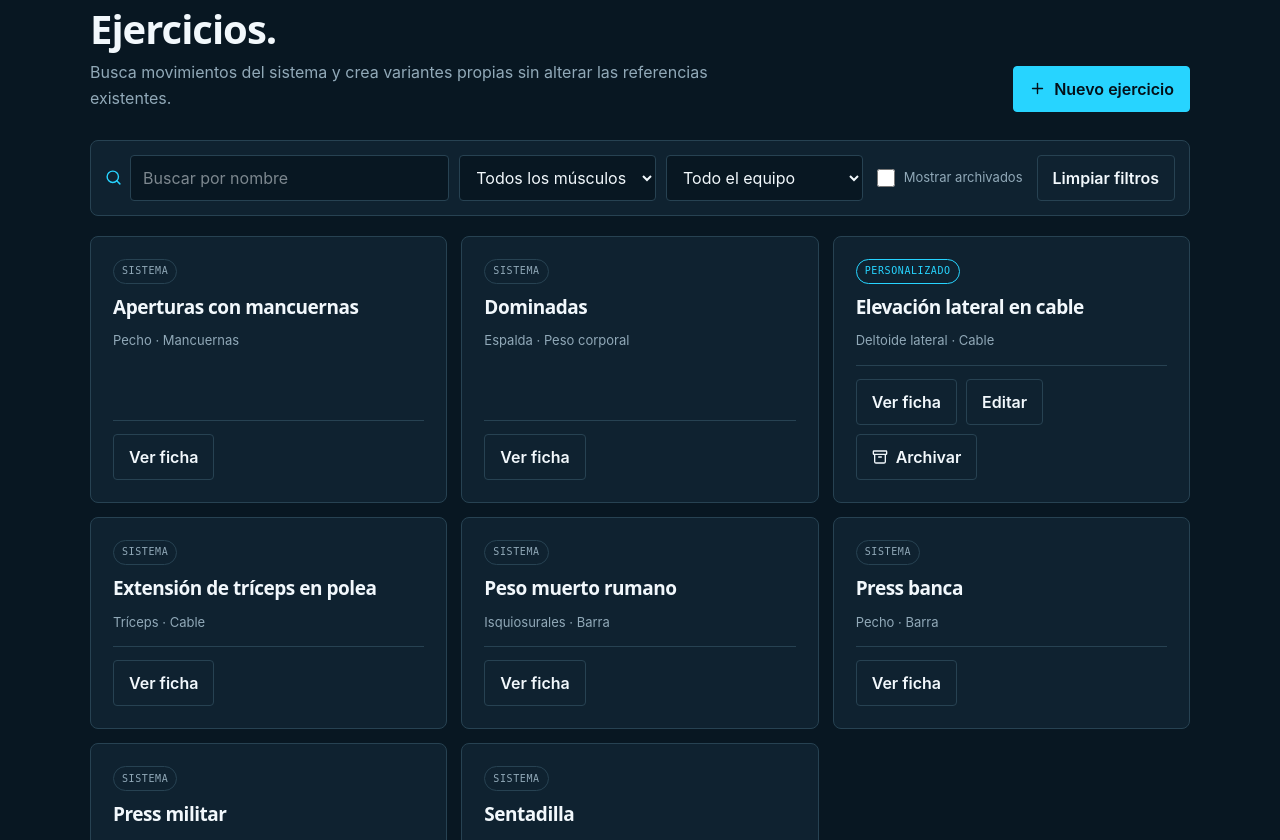
Test: gestión de ejercicios › busca, limpia filtros y crea un ejercicio disponible de inmediato
Check: the heading "Press banca" is shown, box [856,575,963,601]
Step 1. Type "  PRESS BANCA " into the field named "Buscar ejercicios" → (290, 178), box [130,155,449,201]
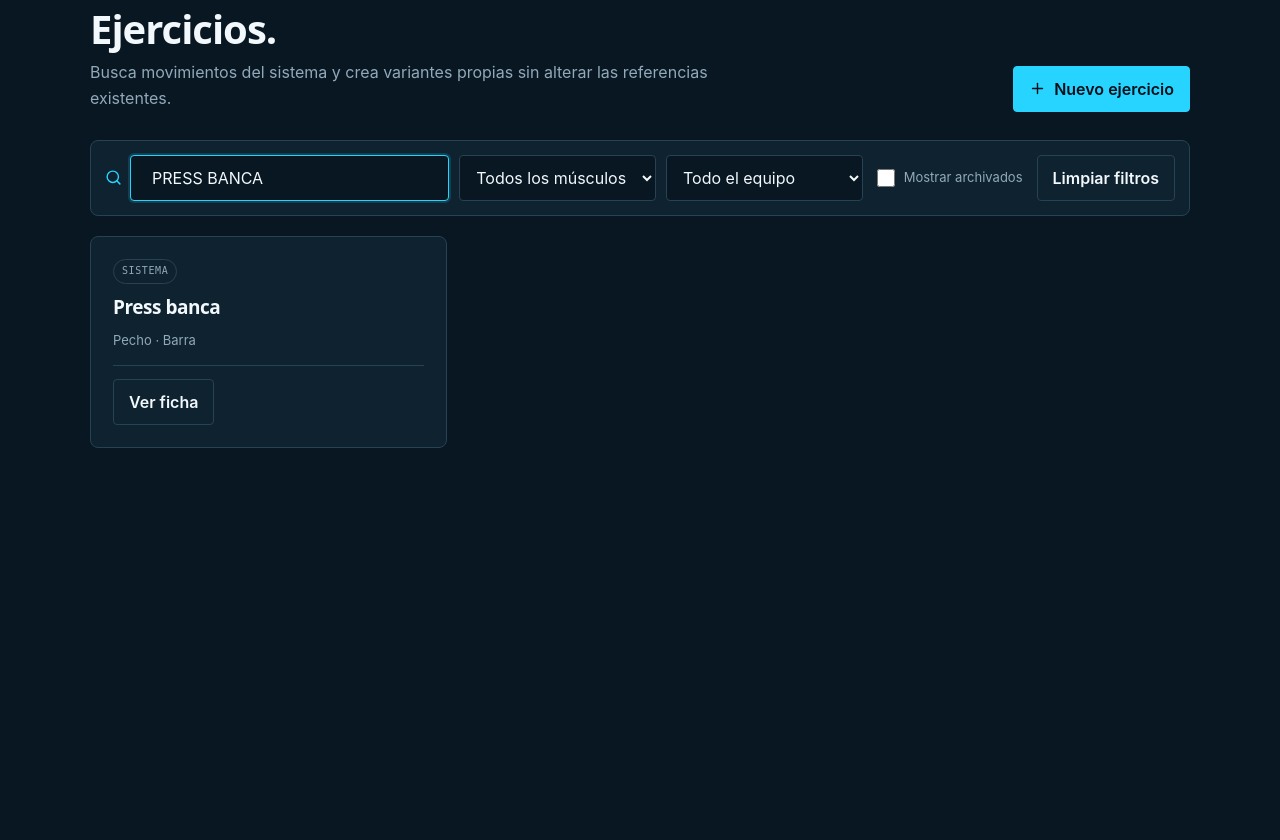
Check: the heading "Press banca" is shown, box [113,294,220,320]
Check: the heading "Sentadilla" is gone
Step 2. Click the button "Limpiar filtros" → (1106, 178), box [1036,155,1175,201]
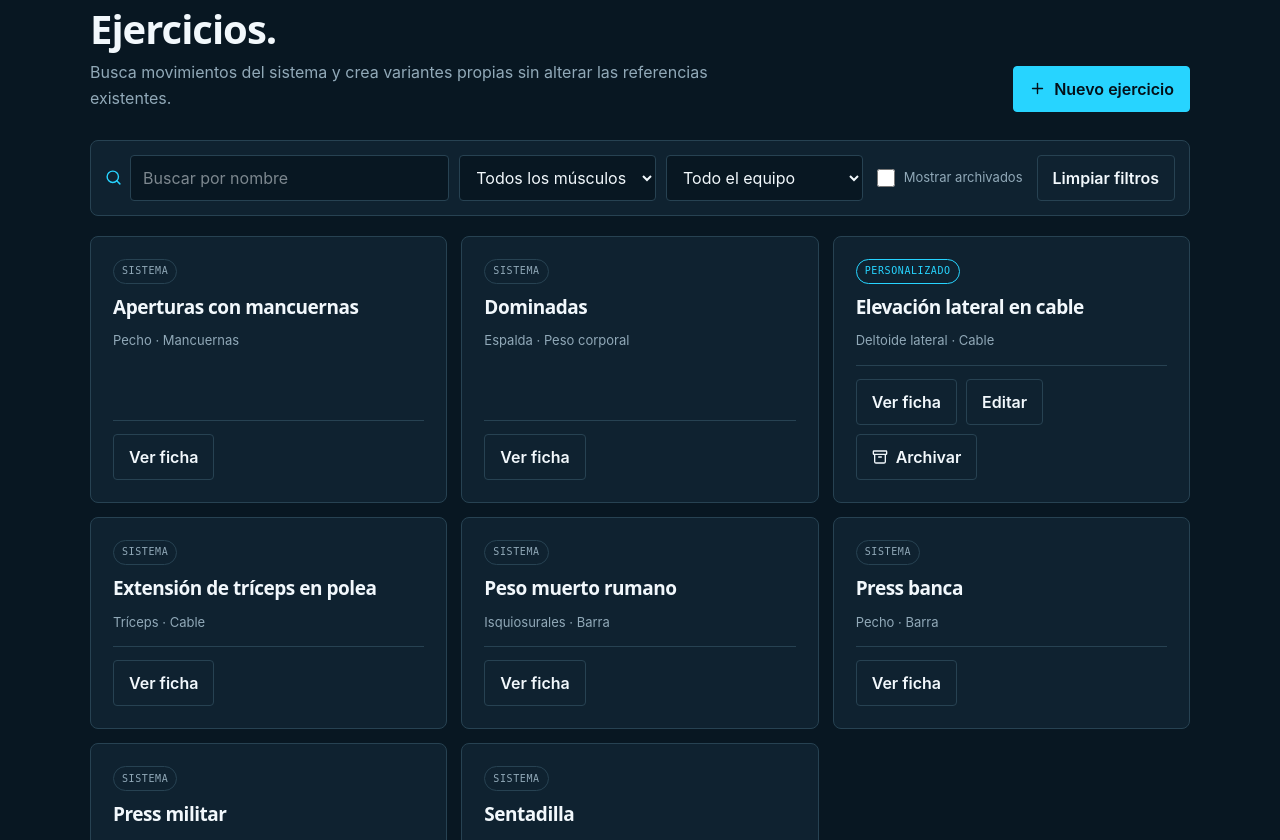
Check: the heading "Sentadilla" is shown, box [484,801,574,827]
Step 3. Click the button "Nuevo ejercicio" → (1102, 89), box [1013,66,1190,112]
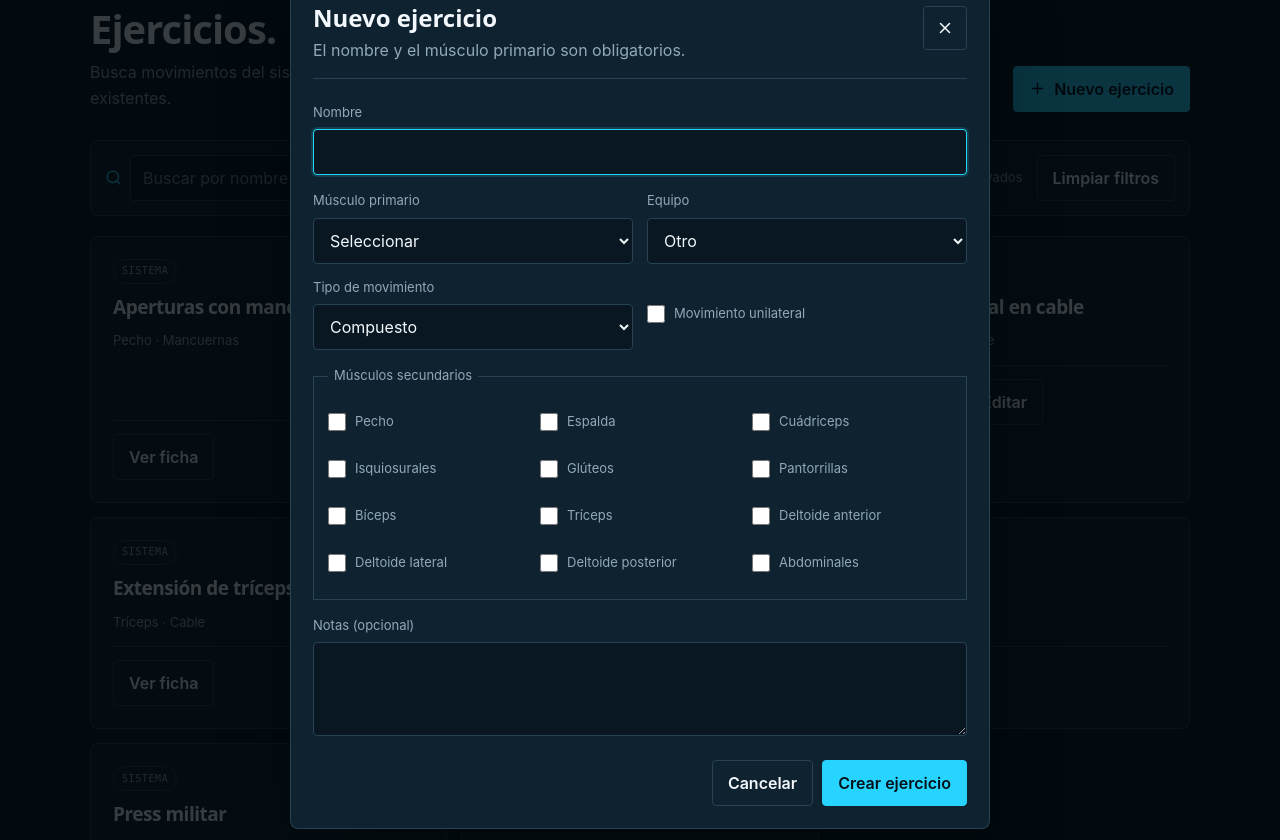
Step 4. Type "Remo alto propio" into the field labelled "Nombre" → (640, 152), box [313,129,967,175]
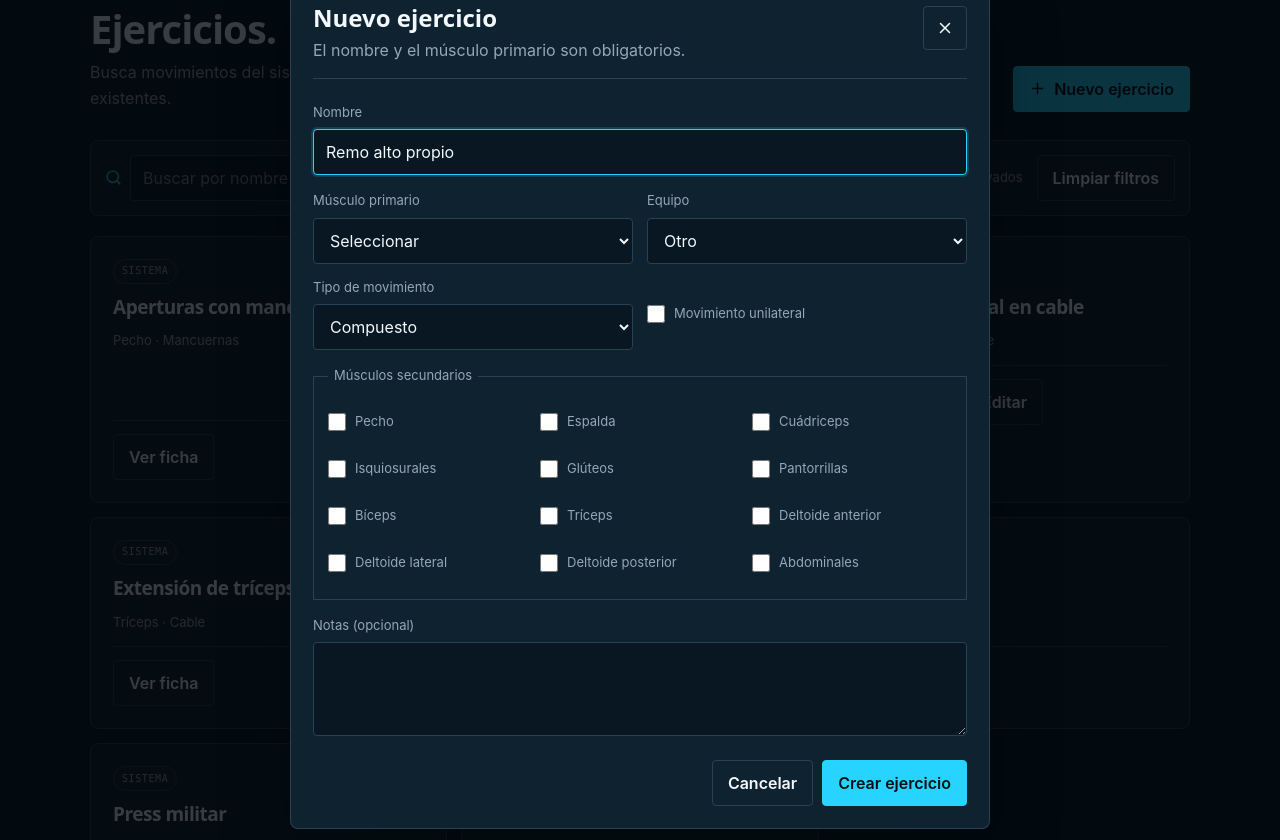
Step 5. Select "Espalda" in the dropdown labelled "Músculo primario" → (473, 241), box [313,218,633,264]
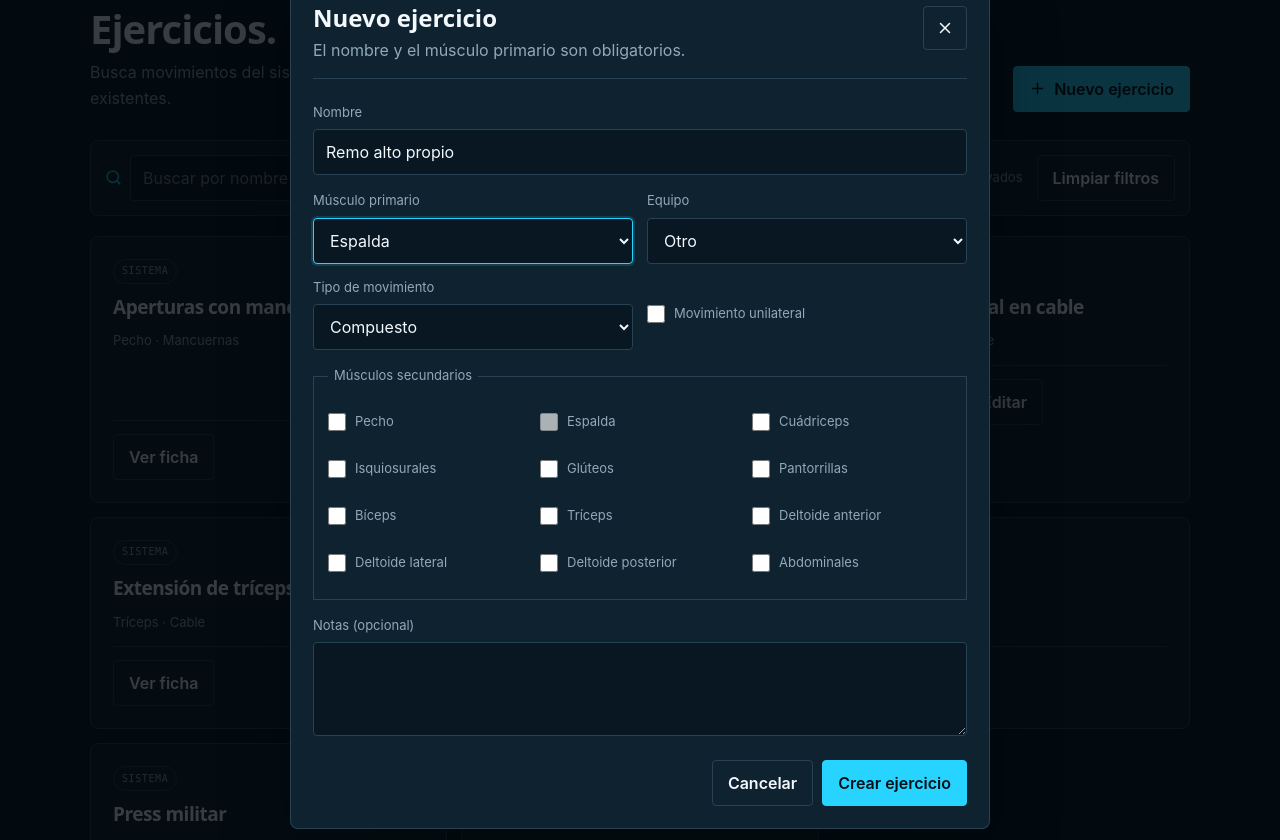
Step 6. Click the button "Crear ejercicio" → (895, 783), box [822,760,967,806]
(page scrolled)
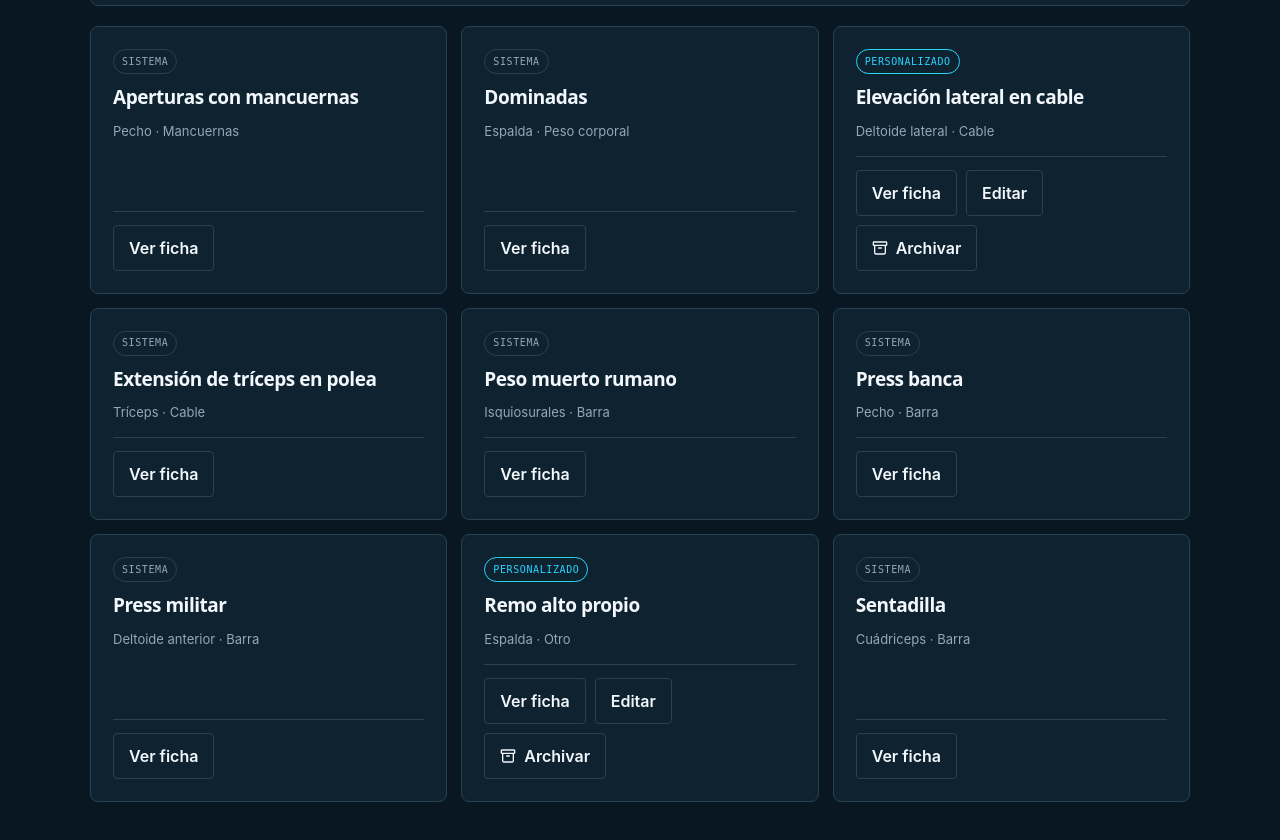
Check: the heading "Remo alto propio" is shown, box [484,592,640,618]
